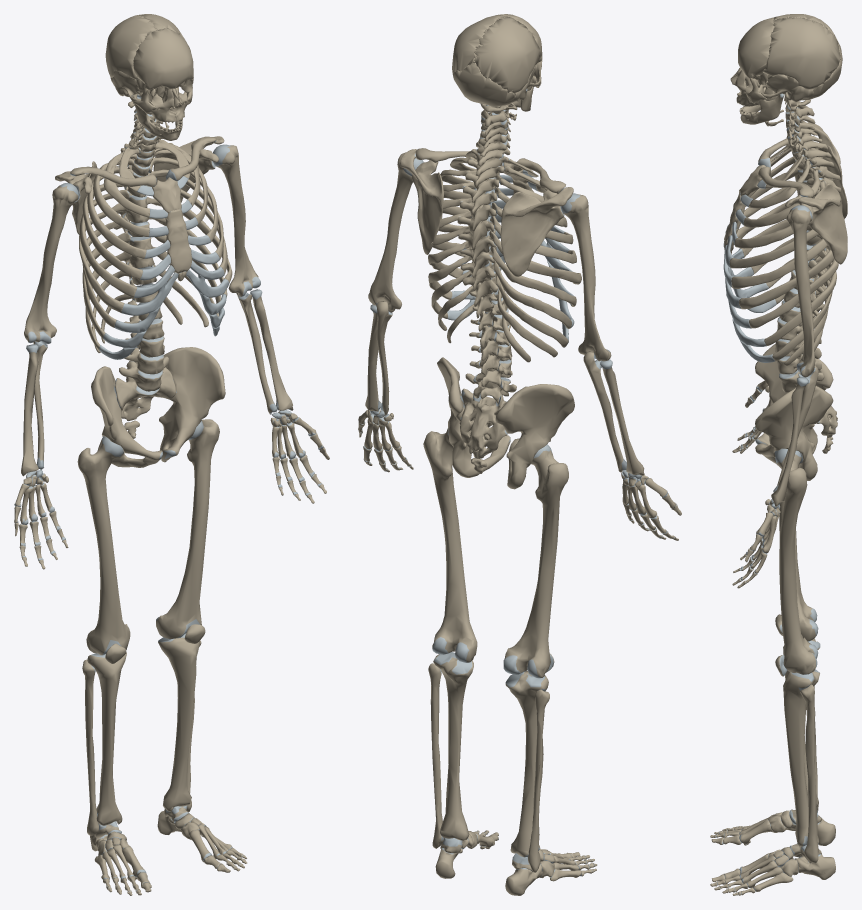
The model's file is adult_male.skeletal.LOD1.glb.
3 views of the same model, side by side, from view 1: azimuth 30°, elevation 25°; view 2: azimuth 150°, elevation 25°; view 3: azimuth 270°, elevation 25° (orthographic). The views are drawn at different scales.
Parts seen in each view (by area): view 1: ADULT.MALE.SKELETAL.FEMUR.R, ADULT.MALE.SKELETAL.FEMUR.L, ADULT.MALE.SKELETAL.HIP_BONE.L, ADULT.MALE.SKELETAL.TIBIA.L, ADULT.MALE.SKELETAL.FRONTAL_BONE, ADULT.MALE.SKELETAL.TIBIA.R, ADULT.MALE.SKELETAL.HUMERUS.R, ADULT.MALE.SKELETAL.HUMERUS.L, ADULT.MALE.SKELETAL.HIP_BONE.R, ADULT.MALE.SKELETAL.PARIETAL_BONE.R, ADULT.MALE.SKELETAL.SACRUM, ADULT.MALE.SKELETAL.FIBULA.R (+19 smaller); view 2: ADULT.MALE.SKELETAL.FEMUR.R, ADULT.MALE.SKELETAL.FEMUR.L, ADULT.MALE.SKELETAL.HIP_BONE.R, ADULT.MALE.SKELETAL.SCAPULA.R, ADULT.MALE.SKELETAL.PARIETAL_BONE.R, ADULT.MALE.SKELETAL.TIBIA.L, ADULT.MALE.SKELETAL.TIBIA.R, ADULT.MALE.SKELETAL.HUMERUS.R, ADULT.MALE.SKELETAL.HUMERUS.L, ADULT.MALE.SKELETAL.HIP_BONE.L, ADULT.MALE.SKELETAL.SCAPULA.L, ADULT.MALE.SKELETAL.SACRUM (+15 smaller); view 3: ADULT.MALE.SKELETAL.FEMUR.L, ADULT.MALE.SKELETAL.PARIETAL_BONE.L, ADULT.MALE.SKELETAL.HIP_BONE.L, ADULT.MALE.SKELETAL.TIBIA.L, ADULT.MALE.SKELETAL.HUMERUS.L, ADULT.MALE.SKELETAL.SCAPULA.L, ADULT.MALE.SKELETAL.FIBULA.L, ADULT.MALE.SKELETAL.FRONTAL_BONE, ADULT.MALE.SKELETAL.HIP_BONE.R, ADULT.MALE.SKELETAL.RADIUS.L, ADULT.MALE.SKELETAL.FEMUR.R, ADULT.MALE.SKELETAL.SEVENTH_RIB.L (+27 smaller).
Part boxes in pixels (x1,y1,x2,y2): ADULT.MALE.SKELETAL.FEMUR.R: (77, 436, 130, 655); ADULT.MALE.SKELETAL.FEMUR.L: (156, 419, 219, 639); ADULT.MALE.SKELETAL.HIP_BONE.L: (159, 347, 225, 462); ADULT.MALE.SKELETAL.TIBIA.L: (158, 633, 200, 811); ADULT.MALE.SKELETAL.FRONTAL_BONE: (133, 28, 193, 91); ADULT.MALE.SKELETAL.TIBIA.R: (87, 652, 126, 825); ADULT.MALE.SKELETAL.HUMERUS.R: (24, 183, 78, 344); ADULT.MALE.SKELETAL.HUMERUS.L: (213, 144, 260, 296); ADULT.MALE.SKELETAL.HIP_BONE.R: (91, 366, 162, 467); ADULT.MALE.SKELETAL.PARIETAL_BONE.R: (105, 15, 157, 79); ADULT.MALE.SKELETAL.SACRUM: (115, 367, 175, 420); ADULT.MALE.SKELETAL.FIBULA.R: (82, 659, 98, 835); ADULT.MALE.SKELETAL.FEMUR.R: (503, 444, 568, 678); ADULT.MALE.SKELETAL.FEMUR.L: (423, 427, 477, 662); ADULT.MALE.SKELETAL.HIP_BONE.R: (495, 384, 574, 489); ADULT.MALE.SKELETAL.SCAPULA.R: (500, 187, 573, 276); ADULT.MALE.SKELETAL.PARIETAL_BONE.R: (474, 16, 539, 93); ADULT.MALE.SKELETAL.TIBIA.L: (433, 652, 473, 840); ADULT.MALE.SKELETAL.TIBIA.R: (505, 671, 548, 857); ADULT.MALE.SKELETAL.HUMERUS.R: (561, 193, 611, 361); ADULT.MALE.SKELETAL.HUMERUS.L: (368, 152, 423, 312); ADULT.MALE.SKELETAL.HIP_BONE.L: (437, 357, 510, 477); ADULT.MALE.SKELETAL.SCAPULA.L: (400, 149, 443, 254); ADULT.MALE.SKELETAL.SACRUM: (459, 388, 507, 458); ADULT.MALE.SKELETAL.FEMUR.L: (775, 448, 818, 674); ADULT.MALE.SKELETAL.PARIETAL_BONE.L: (762, 17, 840, 89); ADULT.MALE.SKELETAL.HIP_BONE.L: (755, 386, 833, 480); ADULT.MALE.SKELETAL.TIBIA.L: (783, 669, 819, 846); ADULT.MALE.SKELETAL.HUMERUS.L: (786, 205, 815, 377); ADULT.MALE.SKELETAL.SCAPULA.L: (785, 183, 847, 264); ADULT.MALE.SKELETAL.FIBULA.L: (800, 684, 818, 863); ADULT.MALE.SKELETAL.FRONTAL_BONE: (738, 17, 774, 78); ADULT.MALE.SKELETAL.HIP_BONE.R: (755, 344, 833, 454); ADULT.MALE.SKELETAL.RADIUS.L: (771, 377, 808, 506); ADULT.MALE.SKELETAL.FEMUR.R: (779, 499, 818, 641); ADULT.MALE.SKELETAL.SEVENTH_RIB.L: (739, 249, 834, 309).
Size of the model in its own units: 0.6692 by 1.7 by 0.2501.
